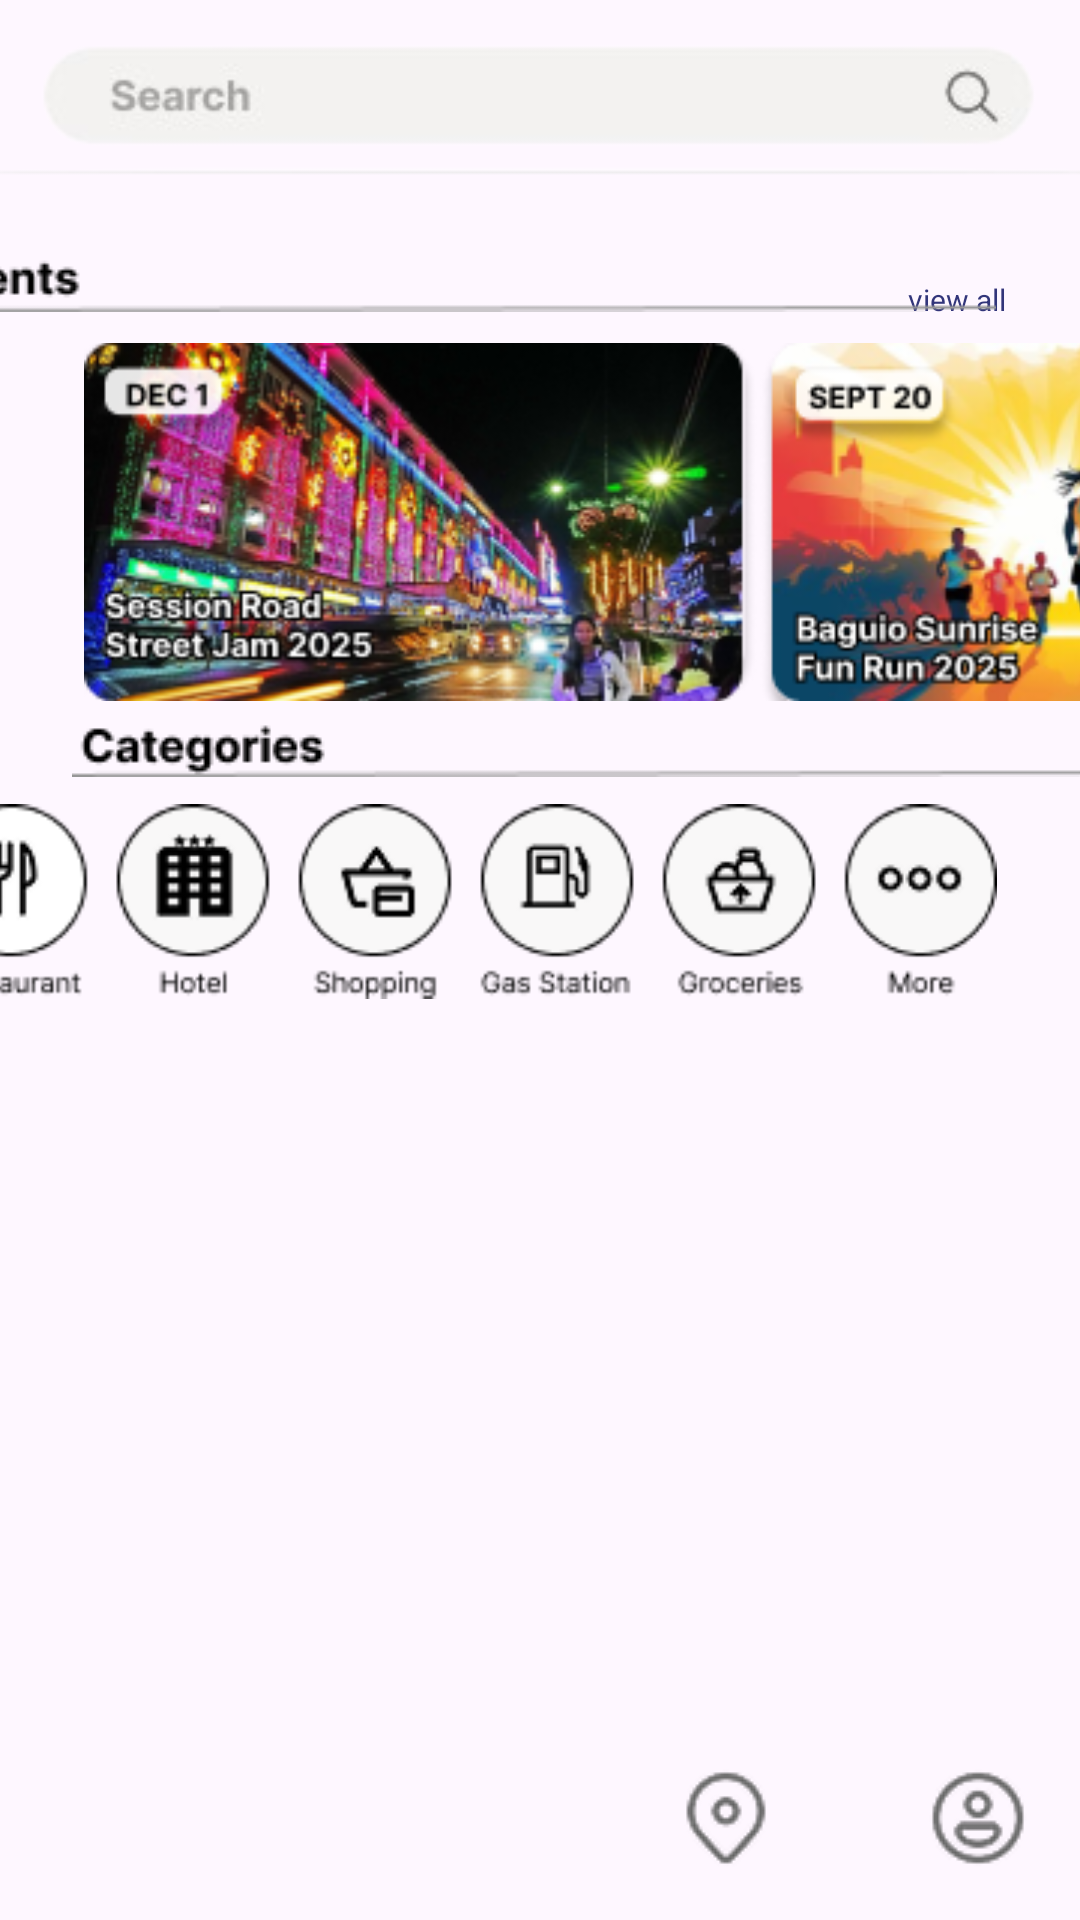

Named icons in this screenshot (1080px×1920px) and their centers, point (x, y):
location: point (726, 1818)
profile: point (978, 1818)
